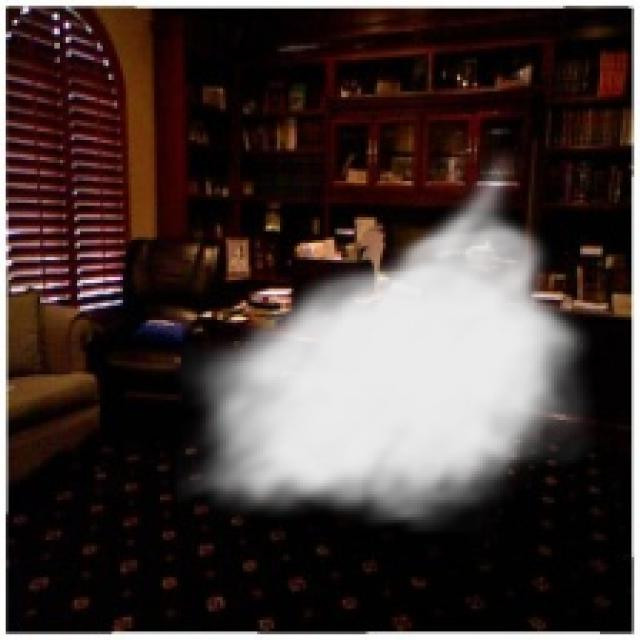smoke: (174, 146, 597, 534)
